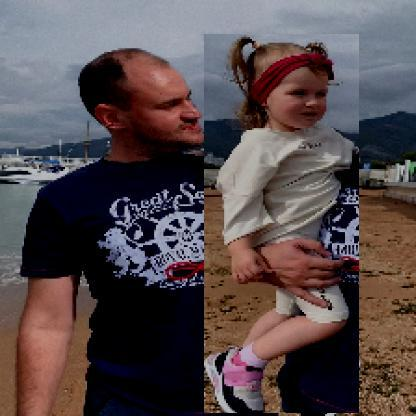child: (206, 35, 362, 415)
